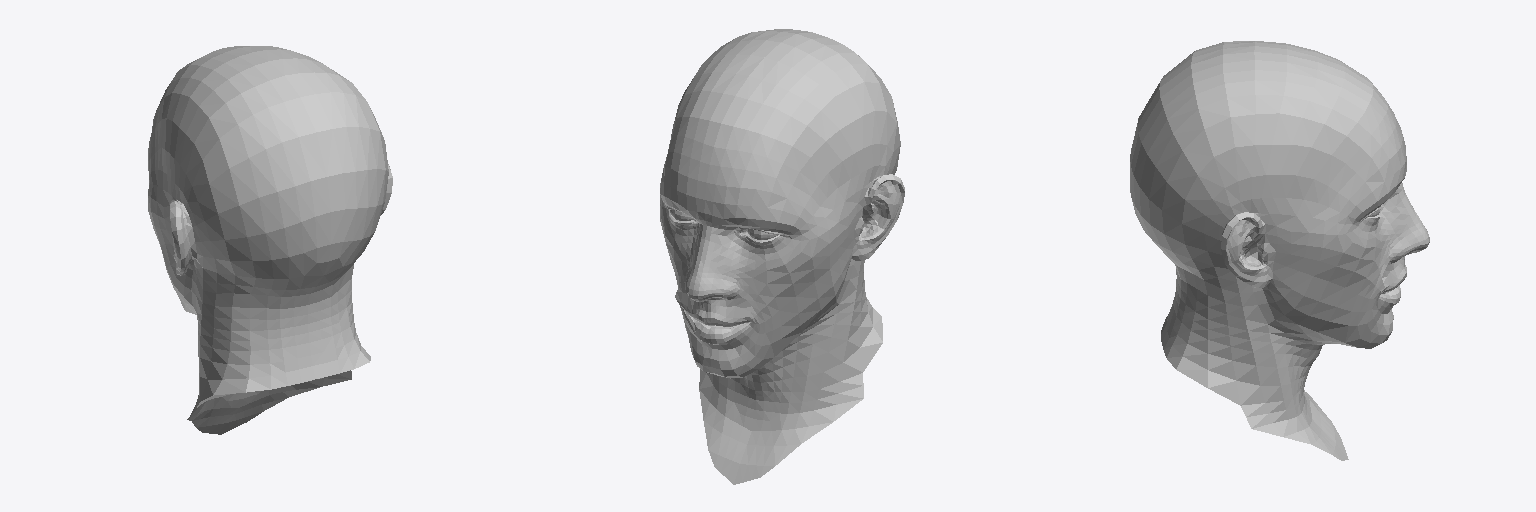
The model's file is smile.obj.
The picture shows the model from 3 angles: view 1: azimuth 30°, elevation 25°; view 2: azimuth 150°, elevation 25°; view 3: azimuth 270°, elevation 25°; orthographic projection.
Parts seen in each view (by area): view 1: mesh0; view 2: mesh0; view 3: mesh0.
Boxes of the visible parts, x1=… form: mesh0: x1=148, y1=46, x2=392, y2=434; mesh0: x1=660, y1=29, x2=904, y2=484; mesh0: x1=1130, y1=41, x2=1429, y2=460.
Size of the model in its own units: 18.12 by 32 by 21.32.